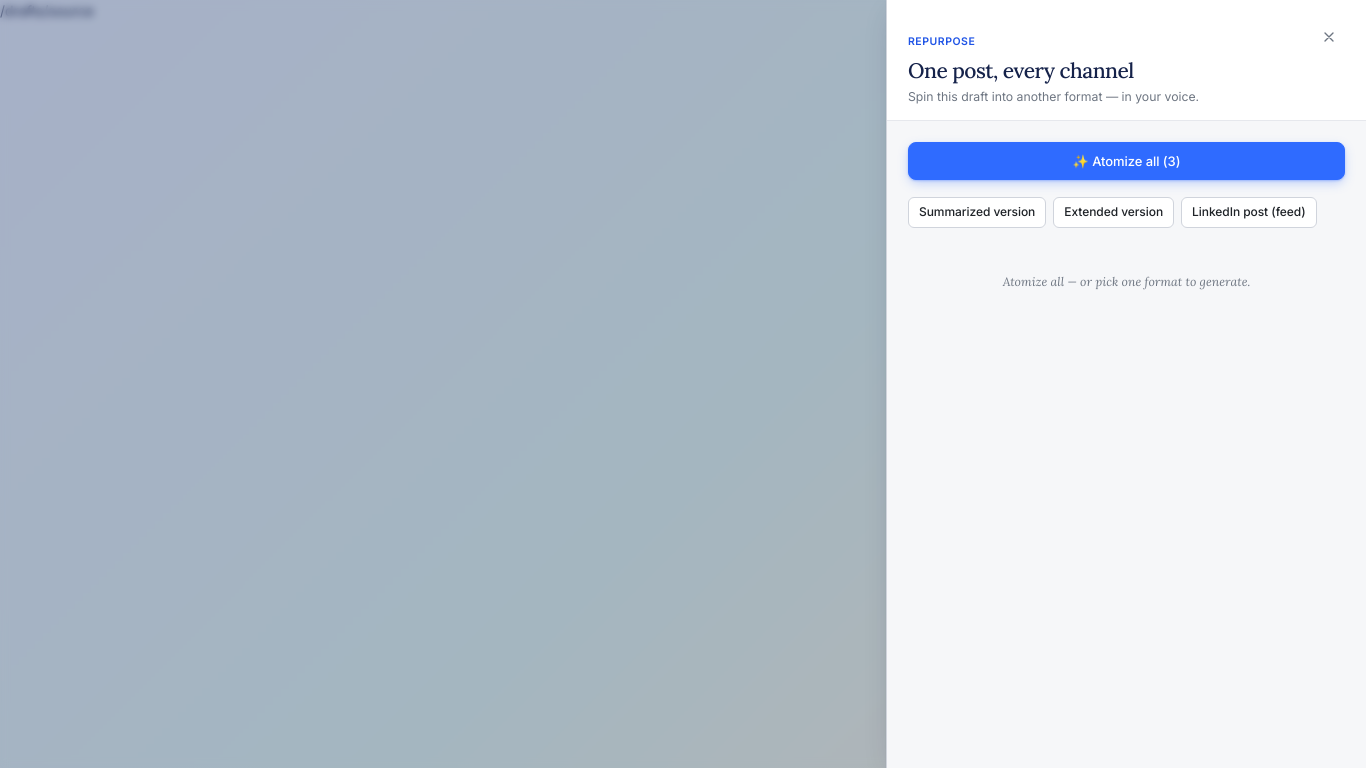
RepurposePanel length variations › warns but still allows saving an out-of-range preview
Click the button "LinkedIn post (feed)" at (1249, 212), box x1=1181 y1=197 x2=1317 y2=228
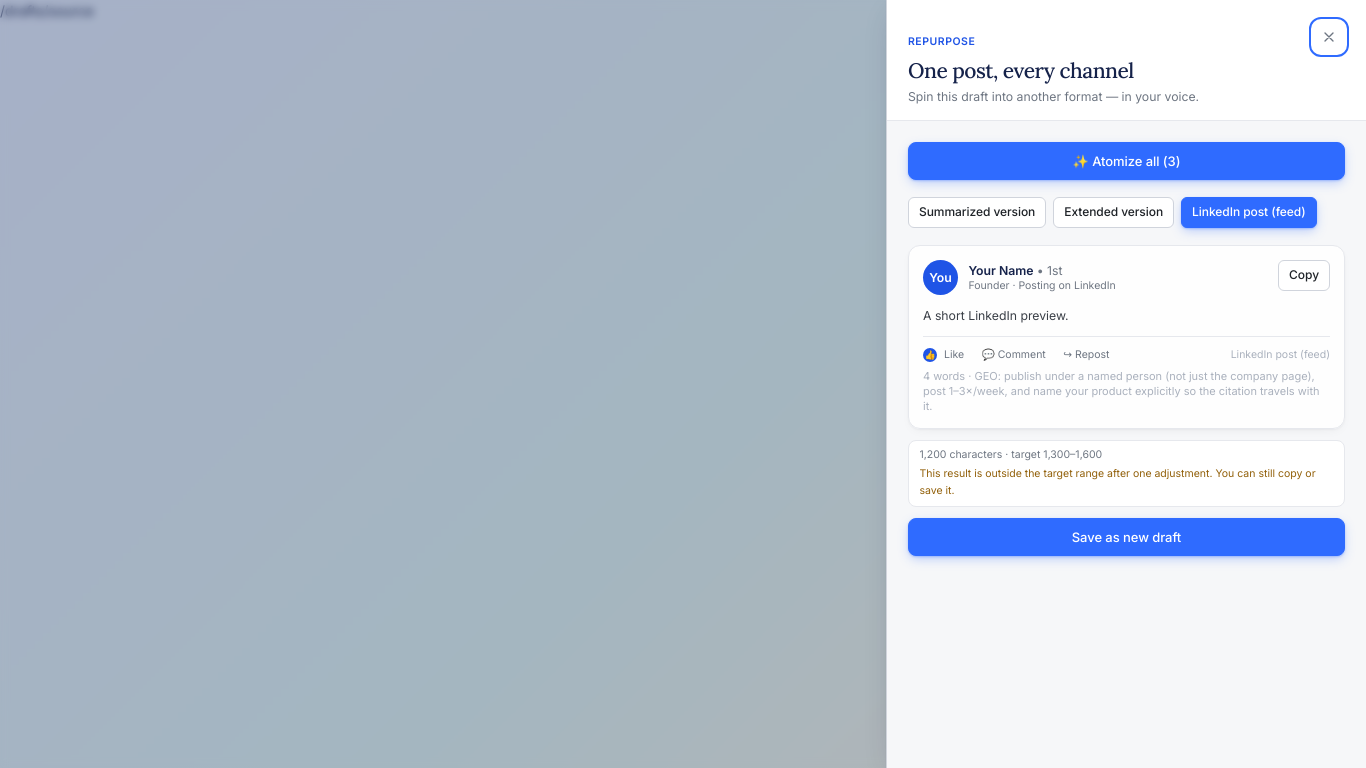
Expected: the text "outside the target range" is shown, x1=920 y1=467 x2=1316 y2=497
Expected: the button "Save as new draft" is enabled, x1=908 y1=518 x2=1345 y2=556
